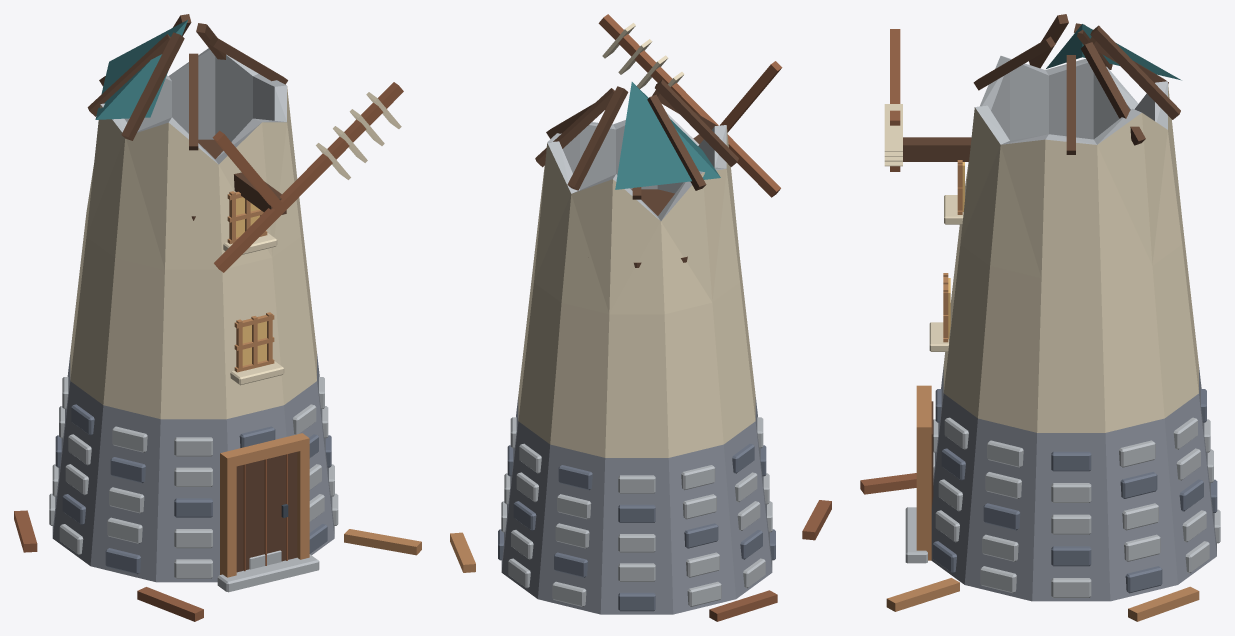
File: windmill_ruined.glb
3 renders of one model, left to right at view 1: azimuth 30°, elevation 25°; view 2: azimuth 150°, elevation 25°; view 3: azimuth 270°, elevation 25°, orthographic. The views are drawn at different scales.
Parts seen in each view (by area): view 1: windmill_ruined_建筑共用调色板; view 2: windmill_ruined_建筑共用调色板; view 3: windmill_ruined_建筑共用调色板.
Part boxes in pixels (<box>): windmill_ruined_建筑共用调色板: <box>14,14,421,621</box>; windmill_ruined_建筑共用调色板: <box>450,14,831,621</box>; windmill_ruined_建筑共用调色板: <box>860,14,1220,621</box>.
Bounding box in the file's own units: 5.18 × 7.7 × 4.87.
1 material, 1 textured.
